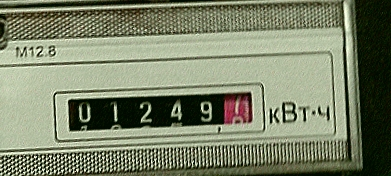0: (72, 97, 93, 124)
1: (104, 98, 121, 124)
2: (134, 99, 156, 126)
4: (166, 95, 186, 123)
7: (227, 92, 243, 117)
9: (195, 97, 215, 124)
screen: (42, 70, 280, 162)
